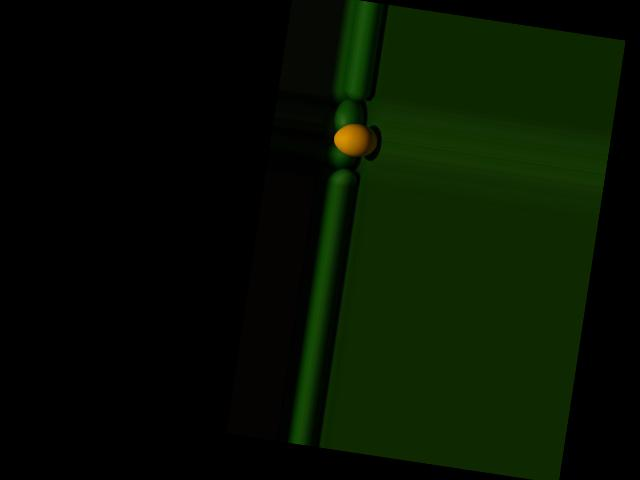egg: (332, 120, 380, 159)
